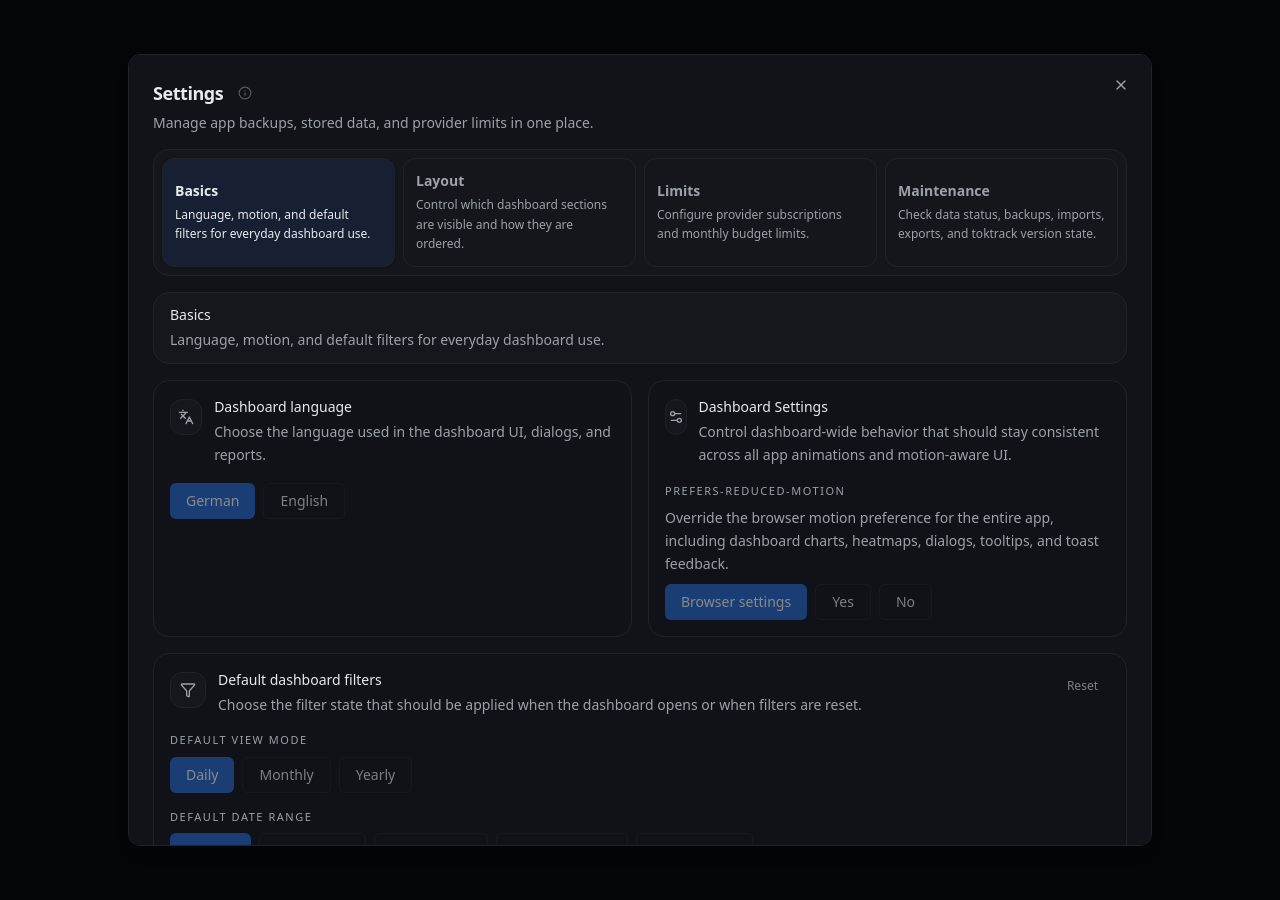
Test case: SettingsModal backup actions › disables backup actions according to busy and data availability state
Click the tab "Maintenance" at {"x": 1002, "y": 212}, box top-left (885, 158), bottom-right (1118, 266)
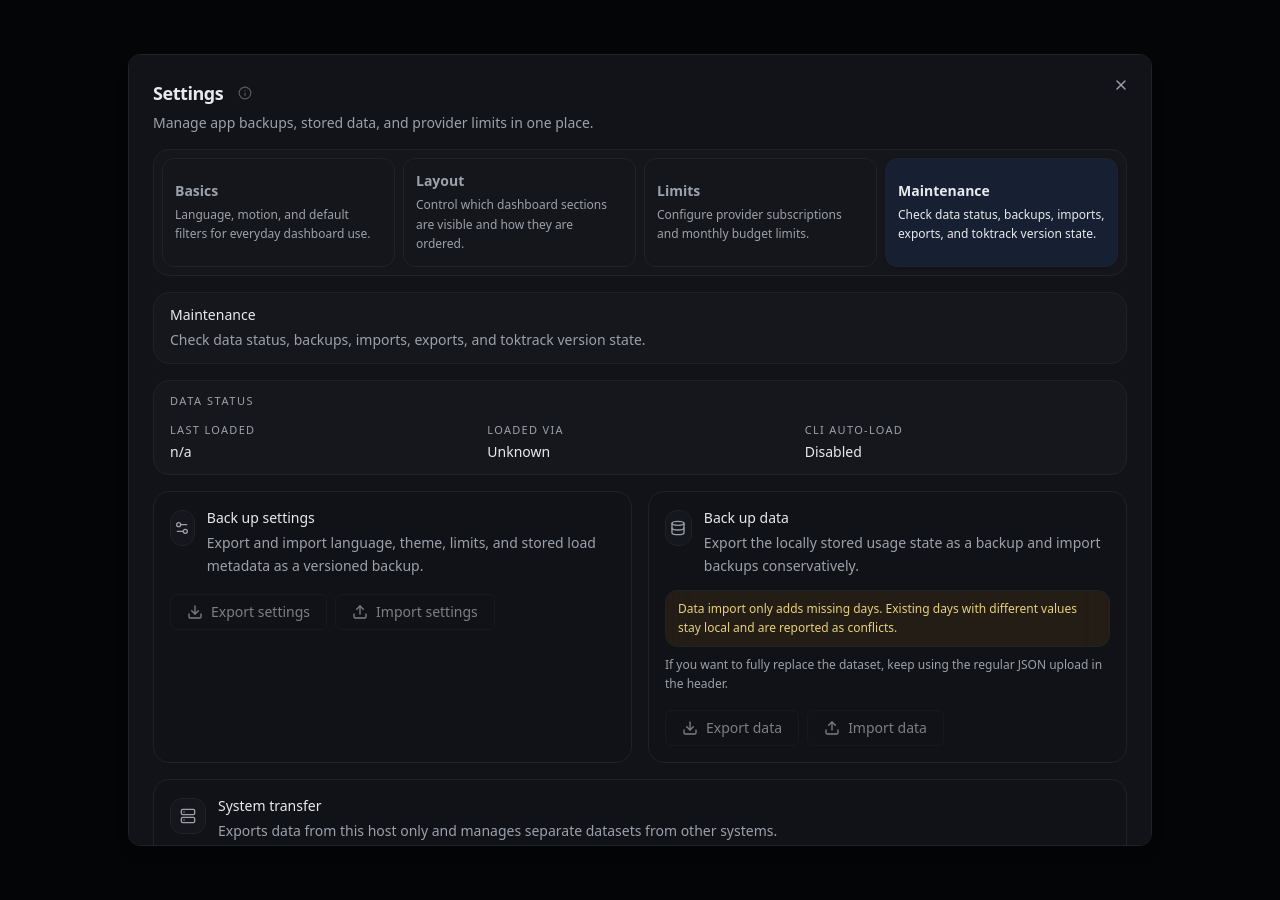
Now the button "Export settings" is disabled, box top-left (170, 594), bottom-right (327, 630)
Now the button "Import settings" is disabled, box top-left (335, 594), bottom-right (495, 630)
Now the button "Export data" is disabled, box top-left (665, 710), bottom-right (799, 746)
